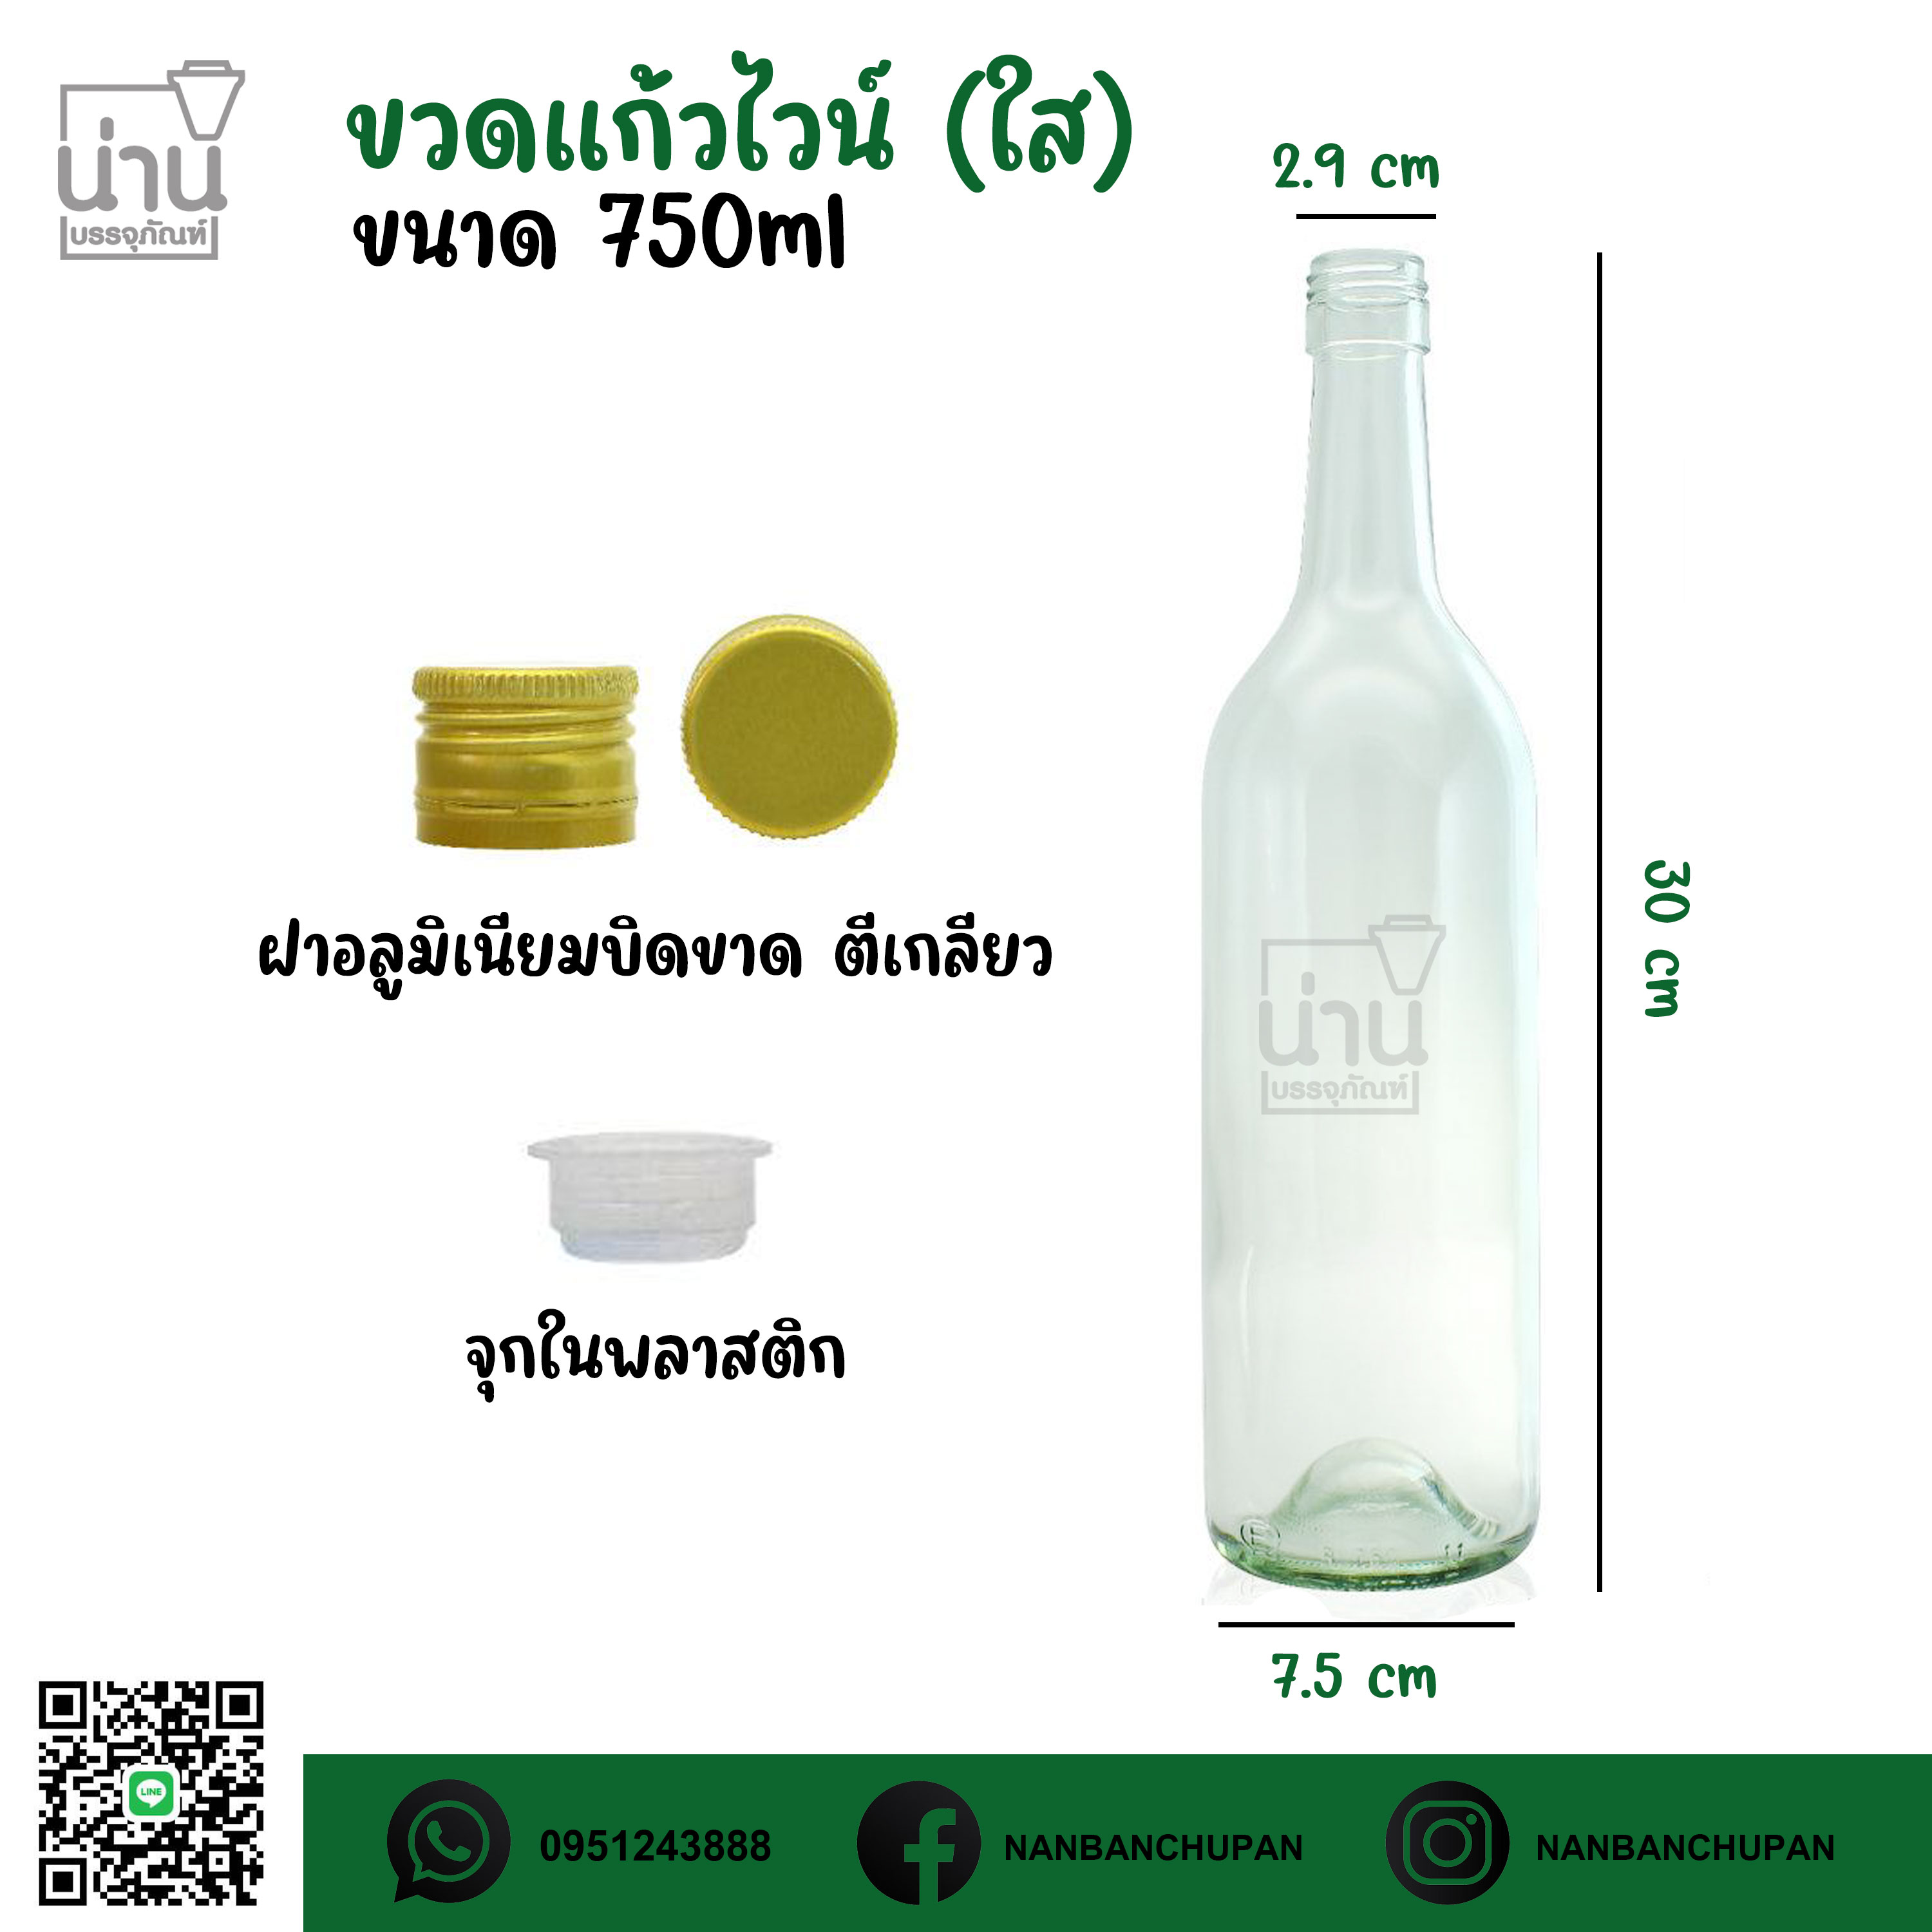glass_bottle: (1162, 237, 1578, 1612)
